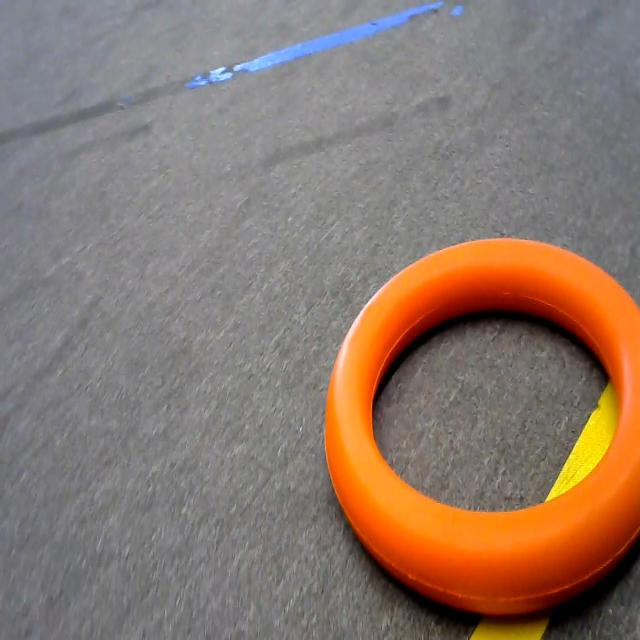note: (319, 240, 640, 603)
